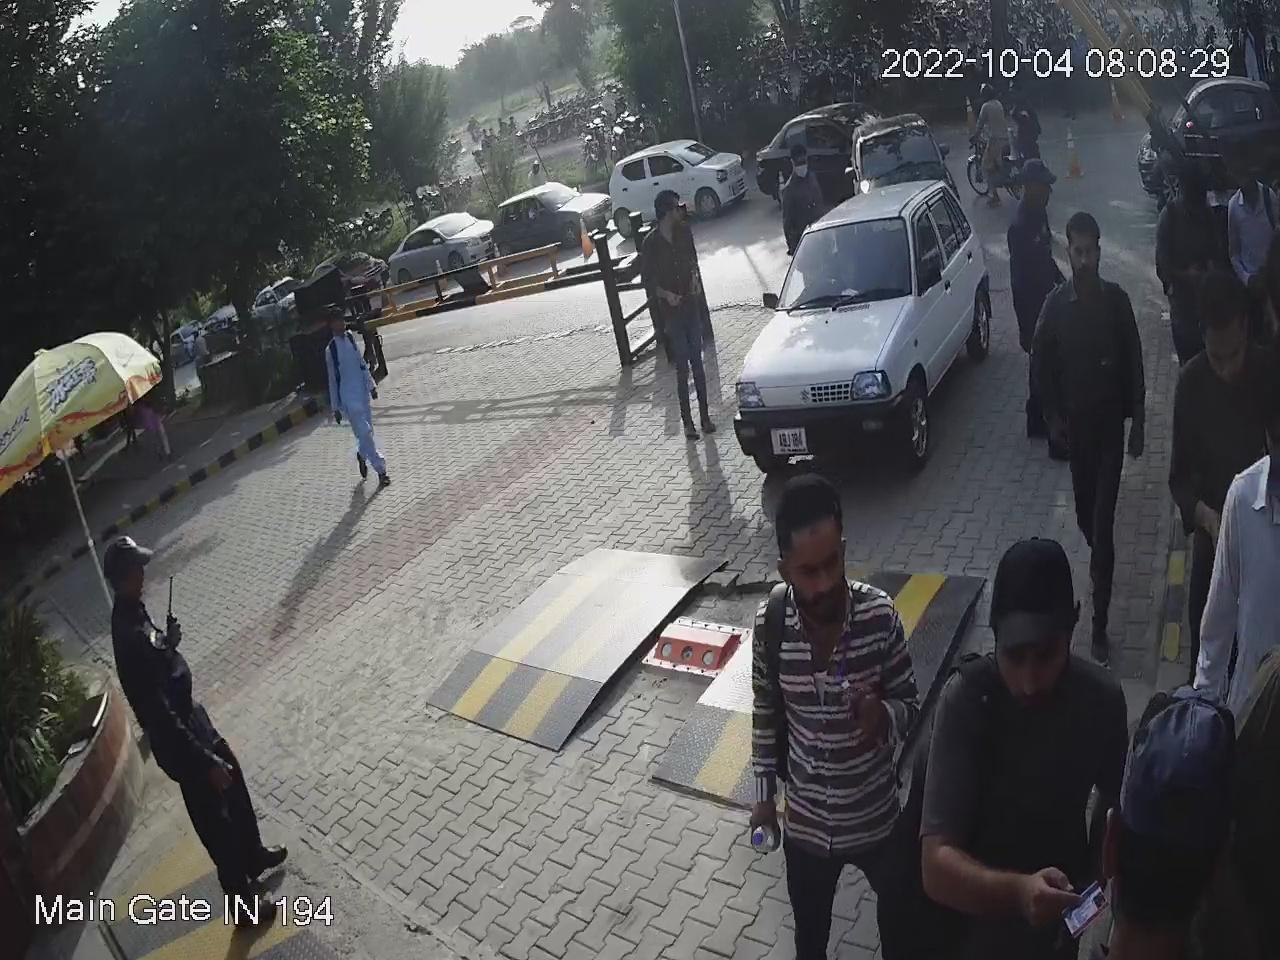windshield: (778, 208, 913, 305)
